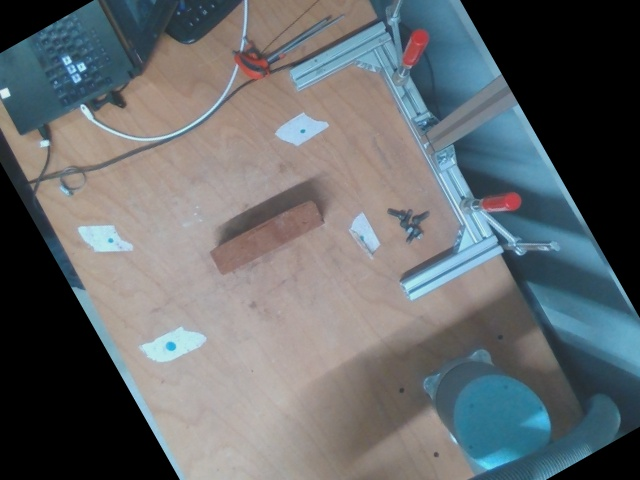brick-side: (206, 197, 324, 276)
